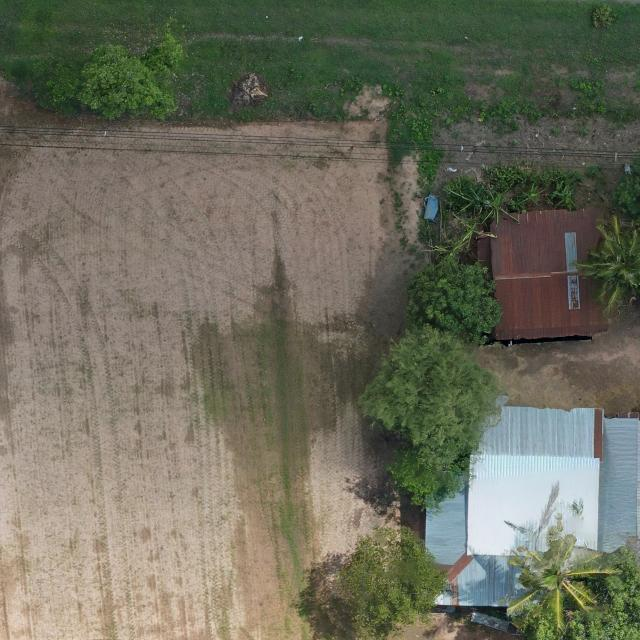Tree: (349, 324, 505, 510), (503, 512, 621, 635), (337, 521, 445, 640), (77, 19, 184, 122), (527, 543, 640, 640), (404, 256, 505, 346), (570, 216, 640, 317), (443, 186, 522, 229), (433, 220, 497, 258), (610, 152, 640, 227), (511, 184, 547, 209), (548, 182, 578, 211)
